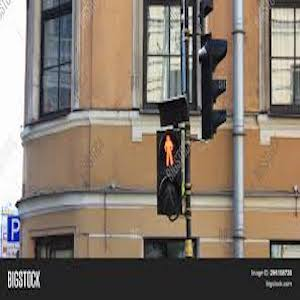red: (158, 135, 184, 168)
